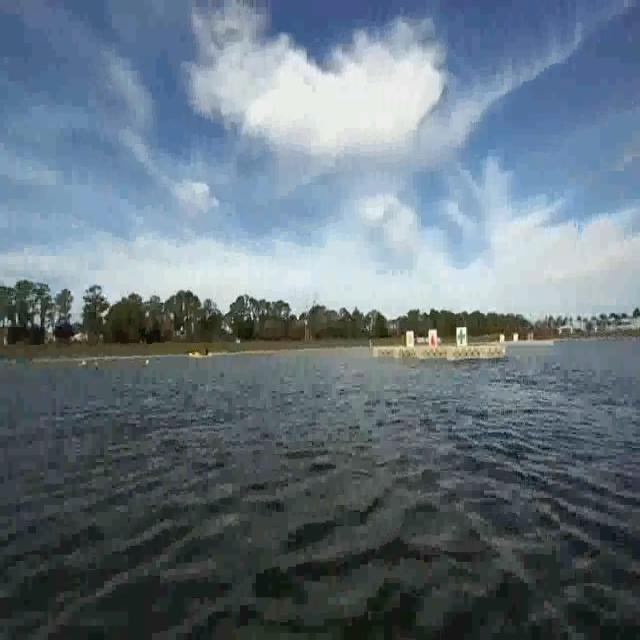blue-cross: (456, 325, 466, 346)
red-dot: (428, 328, 438, 349)
yellow-duck: (406, 328, 415, 350)
